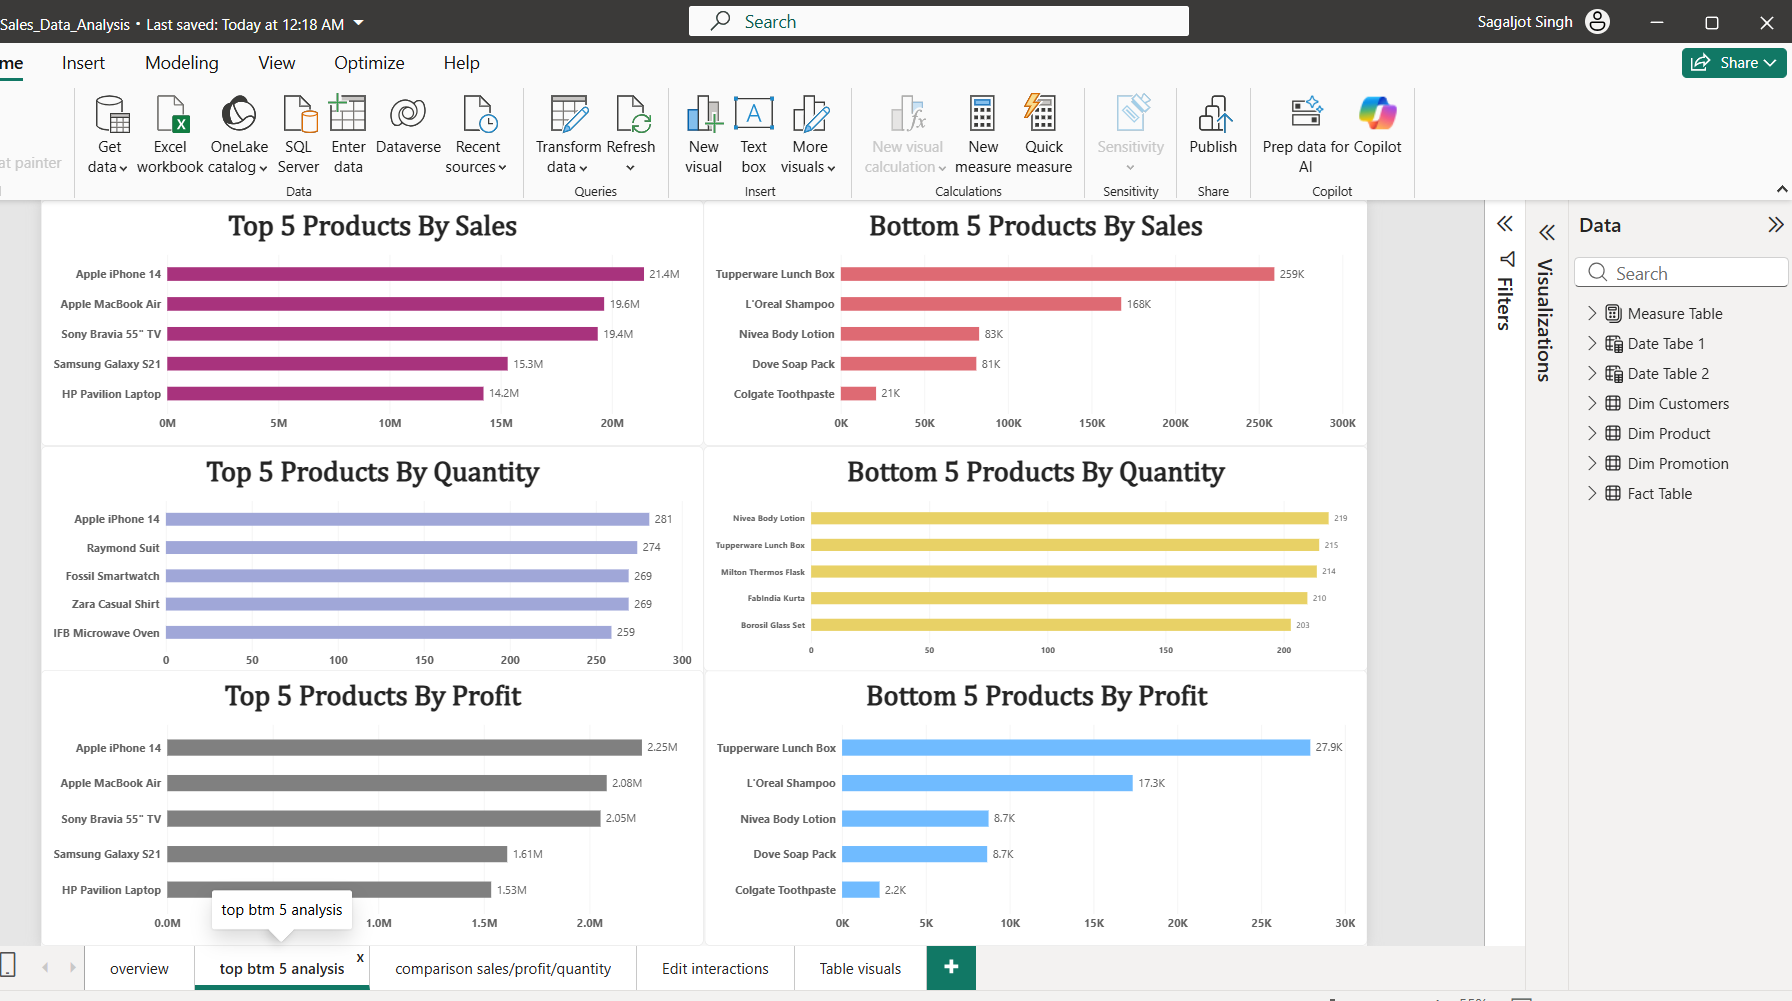

Layout of this report page (visuals, bound fields, positions):
{"tool":"powerbi","page":{"name":"top btm 5 analysis","canvas":[1920,1080],"ordinal":1},"visuals":[{"type":"barChart","title":"Top 5 Products By Sales","fields":{"Category":["Dim Product.Product Name"],"Y":["Sum(Fact Table.Net Sales)"]},"box":[0,0,959.2,356.1],"z":0},{"type":"barChart","title":"Bottom 5 Products By Sales","fields":{"Category":["Dim Product.Product Name"],"Y":["Sum(Fact Table.Net Sales)"]},"box":[959.2,0,961.2,356.1],"z":1000},{"type":"barChart","title":"Top 5 Products By Quantity","fields":{"Category":["Dim Product.Product Name"],"Y":["Sum(Fact Table.Units Sold)"]},"box":[0,356.1,959.2,343.7],"z":2000},{"type":"barChart","title":"Bottom 5 Products By Profit","fields":{"Category":["Dim Product.Product Name"],"Y":["Sum(Fact Table.Profit)"]},"box":[961.2,681.3,959.2,399.3],"z":3000},{"type":"barChart","title":"Top 5 Products By Profit","fields":{"Category":["Dim Product.Product Name"],"Y":["Sum(Fact Table.Profit)"]},"box":[0,681.3,959.2,399.3],"z":4000},{"type":"barChart","title":"Bottom 5 Products By Quantity","fields":{"Category":["Dim Product.Product Name"],"Y":["Sum(Fact Table.Units Sold)"]},"box":[959.2,356.1,961.2,325.2],"z":5000}]}

Visuals, with their boxes on the page's 1920x1080 design canvas (x1, y1, x2, y2). These are canvas units, not pixel positions in the 1792x1001 screenshot, which may show the page scaled, cropped or inside an application window:
"Top 5 Products By Sales" barChart: Rect(0, 0, 959, 356)
"Bottom 5 Products By Sales" barChart: Rect(959, 0, 1920, 356)
"Top 5 Products By Quantity" barChart: Rect(0, 356, 959, 700)
"Bottom 5 Products By Profit" barChart: Rect(961, 681, 1920, 1081)
"Top 5 Products By Profit" barChart: Rect(0, 681, 959, 1081)
"Bottom 5 Products By Quantity" barChart: Rect(959, 356, 1920, 681)
